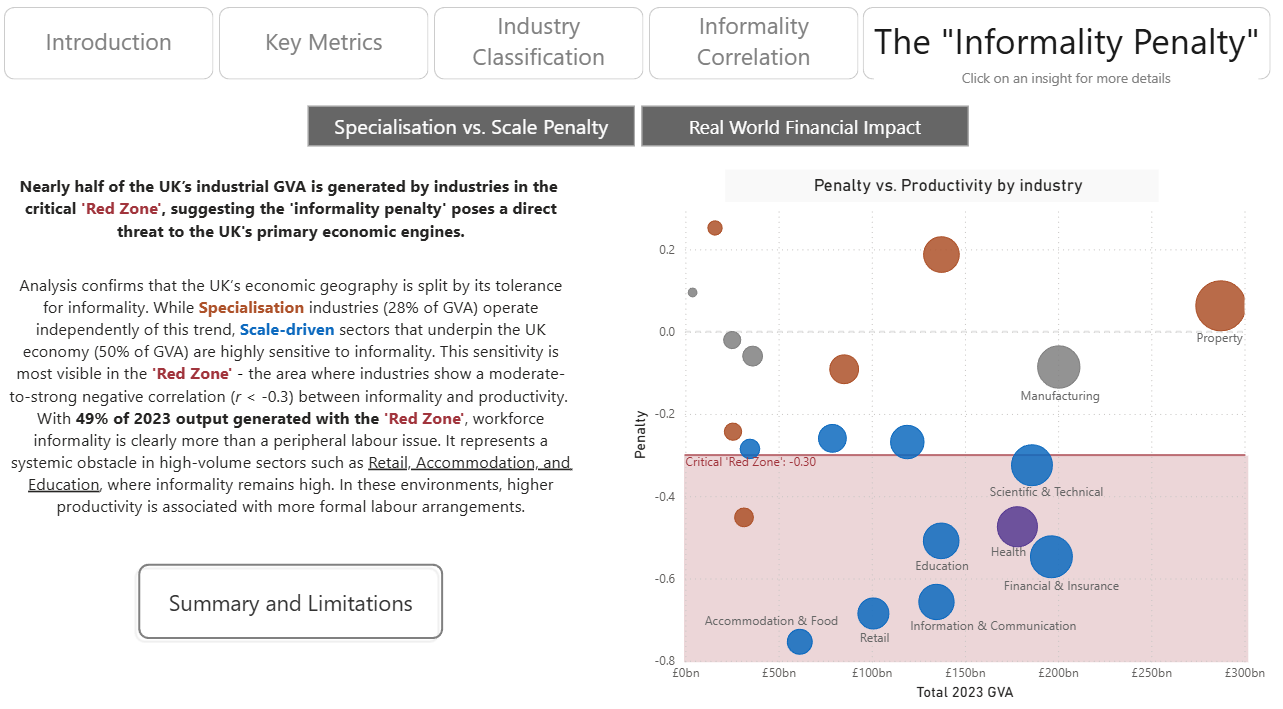

The page's visual inventory and layout, read from the dashboard file:
{"tool":"powerbi","page":{"name":"The \"Informality Penalty\"","canvas":[1280,720],"ordinal":4},"visuals":[{"type":"group","id":"g1","title":"Pages","box":[19.6,19.6,1239.4,70.9],"z":0},{"type":"shape","title":"Page - 1","box":[19.6,19.6,205,70.9],"z":0,"group":"g1"},{"type":"shape","title":"Visual title overlay","box":[428.2,328.9,423.7,31.2],"z":0,"group":"g2"},{"type":"shape","title":"Page - 2","box":[230,19.6,205,70.9],"z":1000,"group":"g1"},{"type":"textbox","title":"subtitle","box":[871,74,376,28],"z":1000},{"type":"clusteredColumnChart","title":"Average Informality Penalty","fields":{"Category":["informality penalty.industry_total"],"Y":["Avg(informality penalty.corr_gva_informality)"]},"box":[403.2,332.6,473.6,361.8],"z":1000,"group":"g2"},{"type":"shape","title":"Page - 3","box":[440,19.6,205,70.9],"z":2000,"group":"g1"},{"type":"shape","title":"Insight 1 button","box":[316.7,116.4,320,39.6],"z":2000},{"type":"shape","title":"Page - 4","box":[650,19.6,205,70.9],"z":3000,"group":"g1"},{"type":"shape","title":"Insight 2 button","box":[642.8,116.4,320,39.6],"z":3000},{"type":"shape","title":"Page - 5","box":[860,19.6,399,70.9],"z":4000,"group":"g1"},{"type":"textbox","title":"Insight 1 headline","box":[257.9,171,764.3,47.7],"z":5000},{"type":"textbox","title":"Insight 1 text","box":[112.5,220,1077.3,83.2],"z":9000},{"type":"group","id":"g2","title":"Insight 1 visual 1","box":[403.2,328.9,473.6,365.5],"z":13000},{"type":"actionButton","title":"Show Industries open","box":[883,324.1,168.8,40.4],"z":17000}]}

Visuals, with their boxes in screenshot pixels (x1, y1, x2, y2), scaled from the page's 1280x720 canvas onto the 1283x709 screenshot:
"Pages" group: BBox(20, 19, 1262, 89)
"Page - 1" shape: BBox(20, 19, 225, 89)
"Visual title overlay" shape: BBox(429, 324, 854, 355)
"Page - 2" shape: BBox(231, 19, 436, 89)
"subtitle" textbox: BBox(873, 73, 1250, 100)
"Average Informality Penalty" clusteredColumnChart: BBox(404, 328, 879, 684)
"Page - 3" shape: BBox(441, 19, 647, 89)
"Insight 1 button" shape: BBox(317, 115, 638, 154)
"Page - 4" shape: BBox(652, 19, 857, 89)
"Insight 2 button" shape: BBox(644, 115, 965, 154)
"Page - 5" shape: BBox(862, 19, 1262, 89)
"Insight 1 headline" textbox: BBox(259, 168, 1025, 215)
"Insight 1 text" textbox: BBox(113, 217, 1193, 299)
"Insight 1 visual 1" group: BBox(404, 324, 879, 684)
"Show Industries open" actionButton: BBox(885, 319, 1054, 359)
